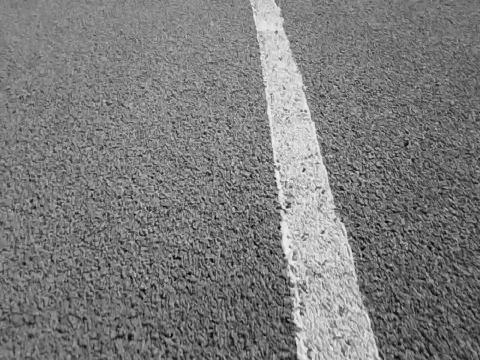Lines: (248, 0, 382, 360)
